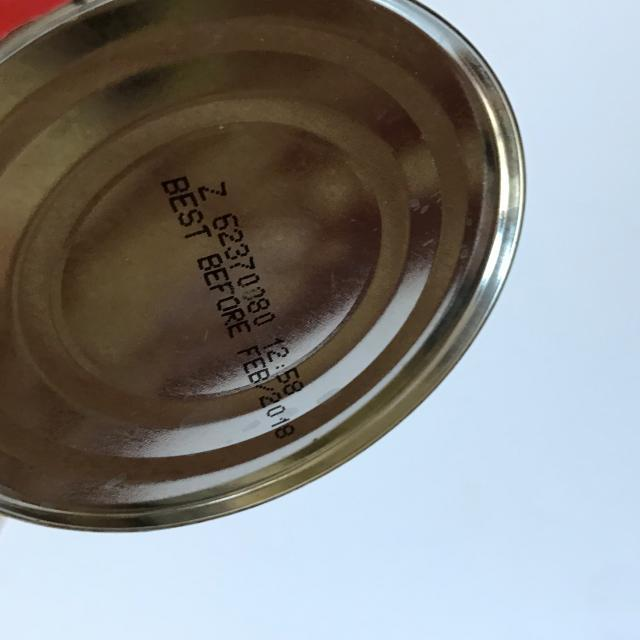metal: (2, 1, 526, 536)
